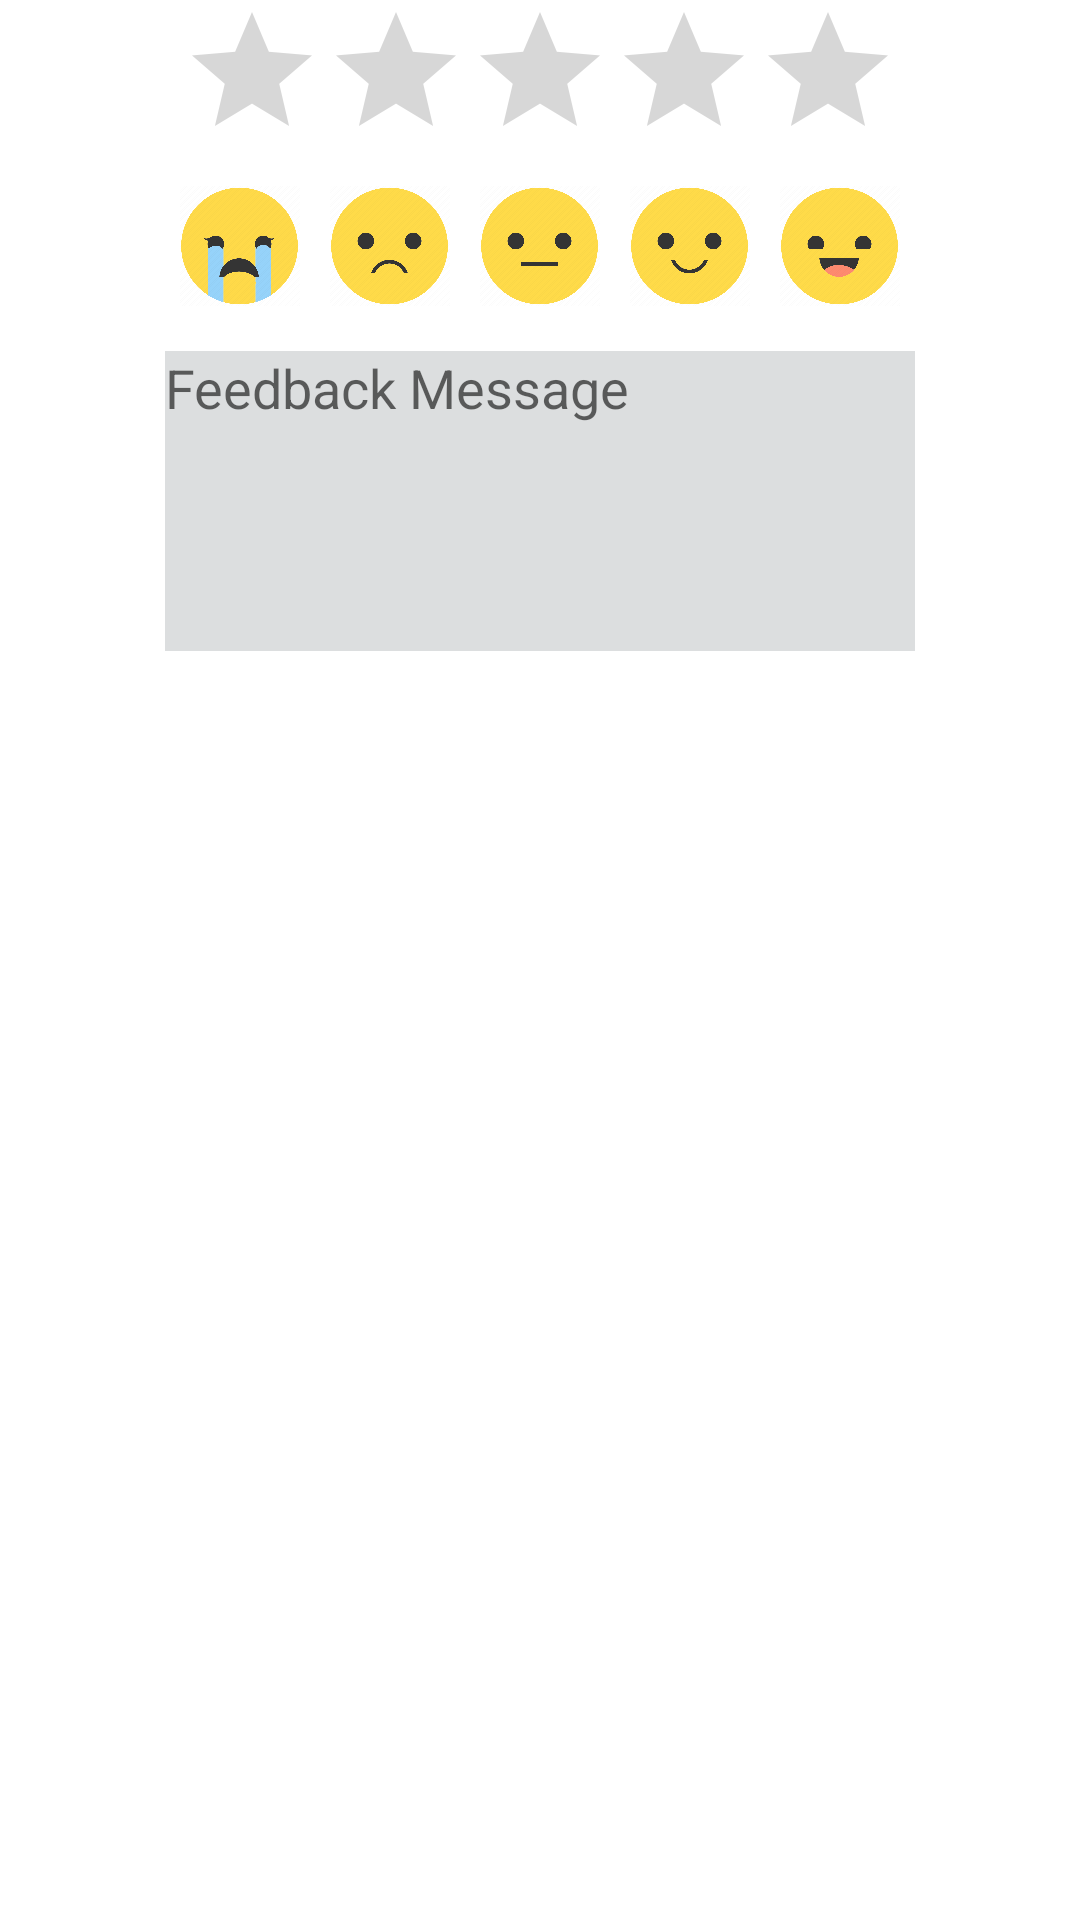

Icon click points for this 1080*1920 phone screenshot, format (x=x, y=y):
face: (x=239, y=246), (x=389, y=246), (x=539, y=246), (x=689, y=246), (x=839, y=246)
